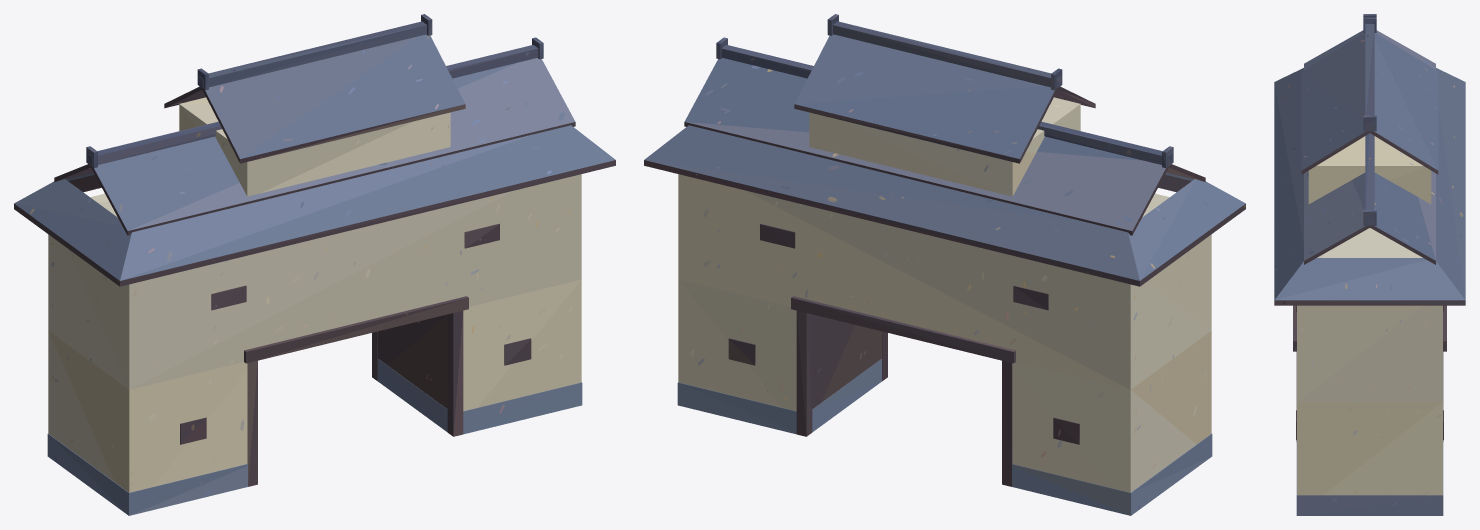
The model's file is HK_GateHouse_Yagura.lod.glb.
The picture shows the model from 3 angles, left to right: view 1: azimuth 30°, elevation 25°; view 2: azimuth 150°, elevation 25°; view 3: azimuth 270°, elevation 25°; orthographic projection. The views are drawn at different scales.
Visible parts, largest first — view 1: HK_GateHouse_Yagura; view 2: HK_GateHouse_Yagura; view 3: HK_GateHouse_Yagura.
Part boxes in pixels (x1,y1,x2,y2): HK_GateHouse_Yagura: (14,14,615,515); HK_GateHouse_Yagura: (644,14,1245,515); HK_GateHouse_Yagura: (1274,14,1465,515).
Bounding box in the file's own units: 22.71 × 16.91 × 8.41.
